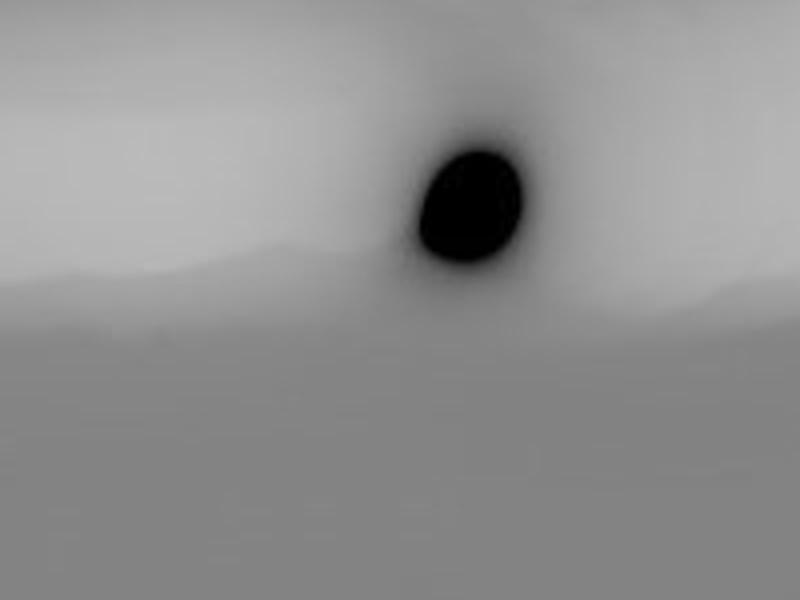defect: (417, 149, 525, 268)
